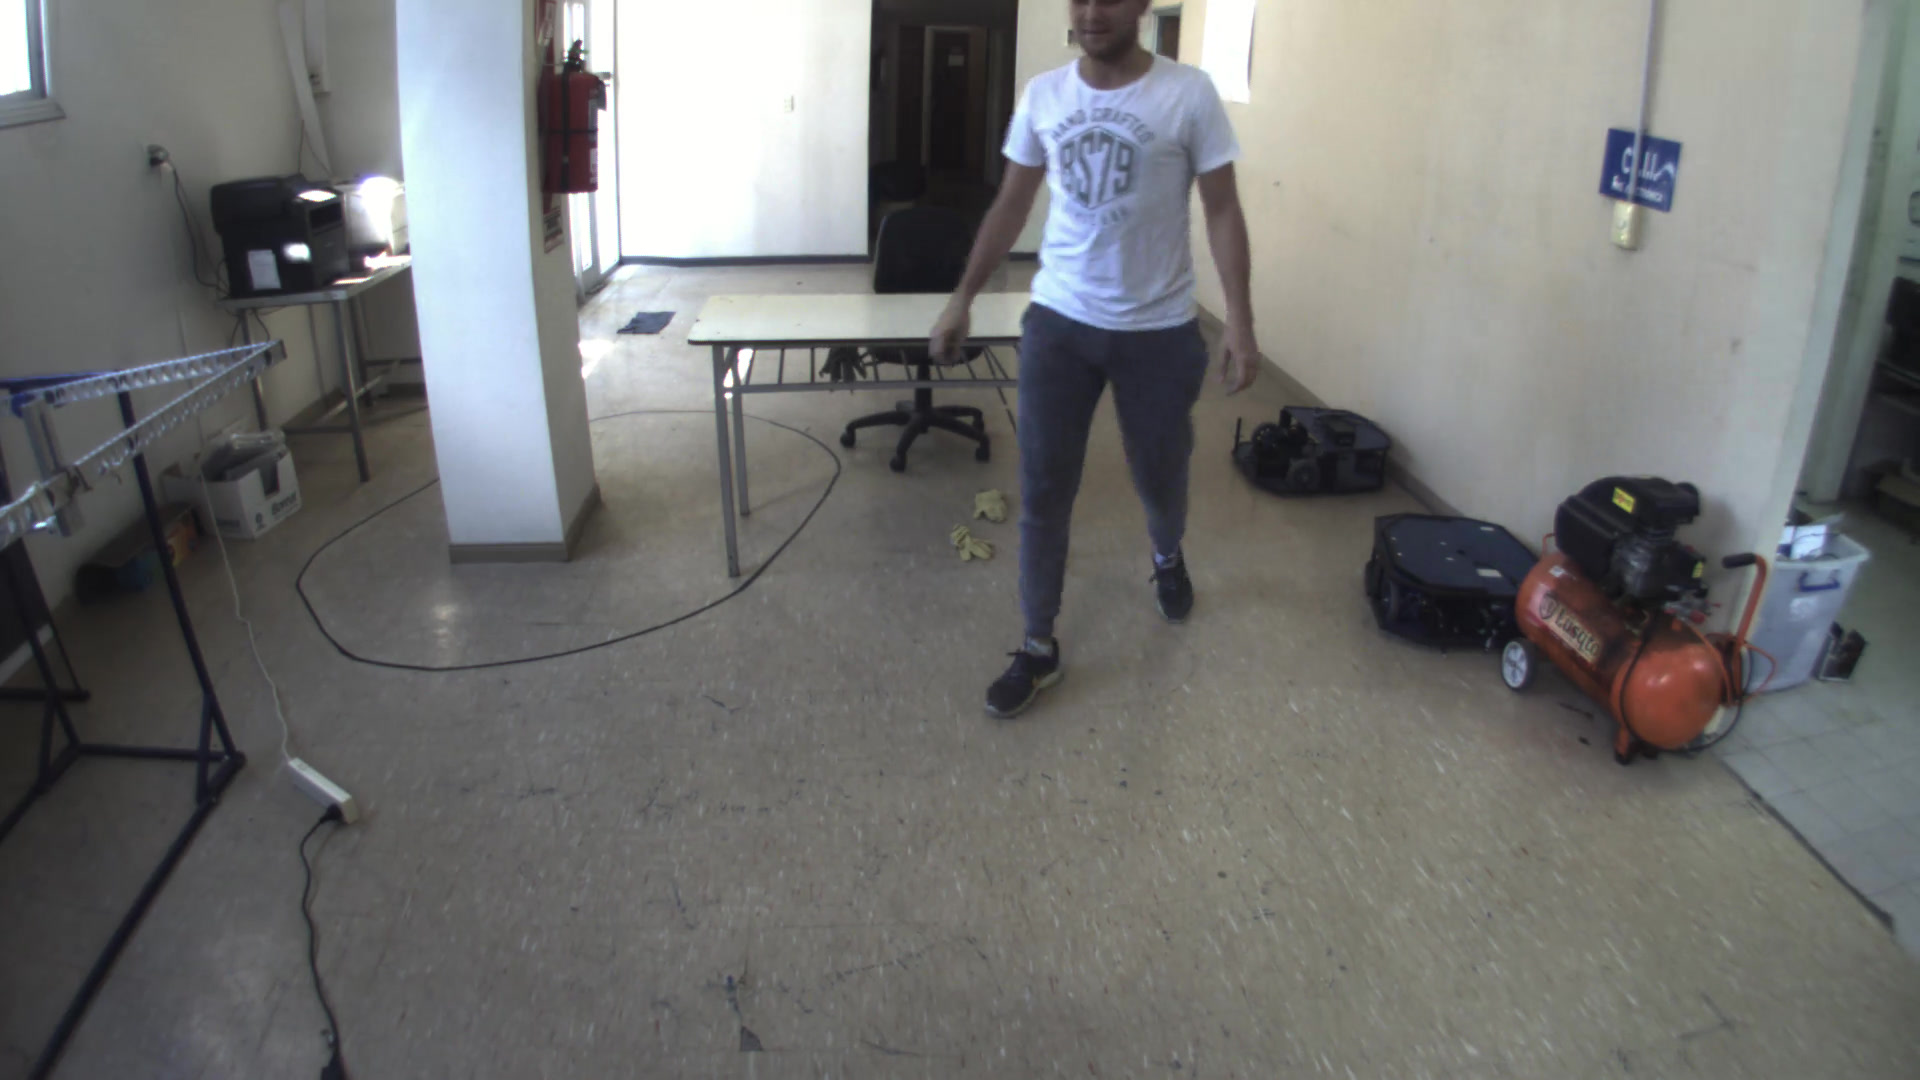hand: (1211, 313, 1270, 394), (914, 298, 976, 373)
